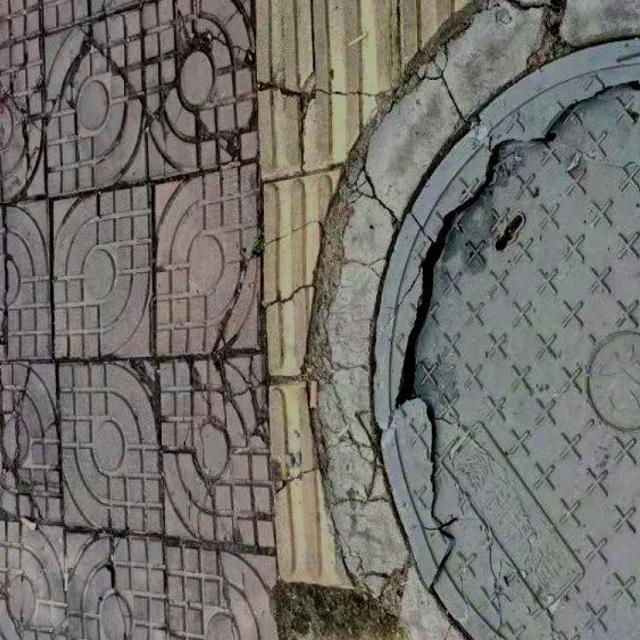circle: (290, 0, 640, 640)
